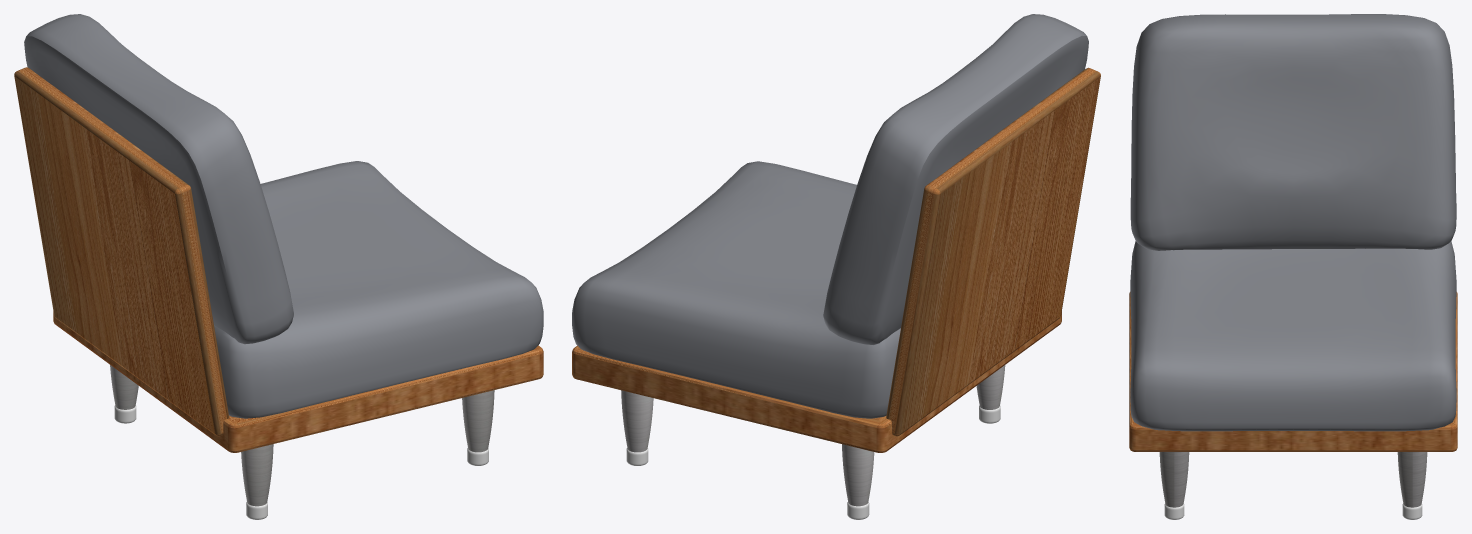
File: silla.fbx
The picture shows the model from 3 angles, left to right: view 1: azimuth 30°, elevation 25°; view 2: azimuth 150°, elevation 25°; view 3: azimuth 270°, elevation 25°; orthographic projection. The views are drawn at different scales.
Parts seen in each view (by area): view 1: Down, Back_1, Back, Down_1, Объект_Цилиндр_3, Объект_Цилиндр_2, Объект_Цилиндр; view 2: Down, Back_1, Back, Down_1, Объект_Цилиндр_1, Объект_Цилиндр, Объект_Цилиндр_2; view 3: Back, Down, Down_1, Объект_Цилиндр_1, Объект_Цилиндр_3.
Boxes of the visible parts, bbox=[...] form: Down: bbox=[214, 161, 543, 418]; Back_1: bbox=[14, 67, 229, 436]; Back: bbox=[24, 14, 293, 344]; Down_1: bbox=[53, 311, 543, 452]; Объект_Цилиндр_3: bbox=[462, 390, 494, 452]; Объект_Цилиндр_2: bbox=[241, 444, 273, 506]; Объект_Цилиндр: bbox=[110, 365, 138, 409]; Down: bbox=[572, 161, 900, 418]; Back_1: bbox=[886, 67, 1100, 436]; Back: bbox=[823, 14, 1088, 344]; Down_1: bbox=[572, 311, 1061, 452]; Объект_Цилиндр_1: bbox=[621, 390, 653, 452]; Объект_Цилиндр: bbox=[842, 444, 874, 506]; Объект_Цилиндр_2: bbox=[976, 365, 1005, 409]; Back: bbox=[1130, 14, 1456, 250]; Down: bbox=[1130, 241, 1456, 431]; Down_1: bbox=[1129, 292, 1457, 451]; Объект_Цилиндр_1: bbox=[1397, 452, 1427, 507]; Объект_Цилиндр_3: bbox=[1159, 452, 1189, 507].
Bounding box in the file's own units: 31041 × 33513 × 26640.
